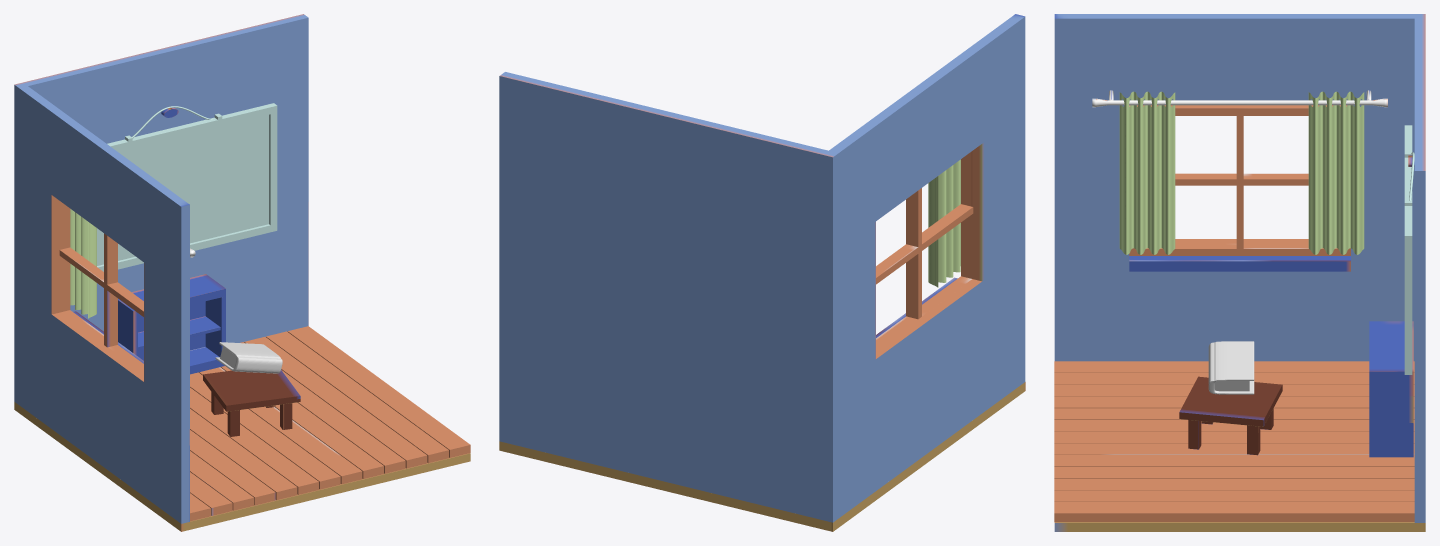
Rendered from room.glb.
3 renders of one model, left to right at view 1: azimuth 30°, elevation 25°; view 2: azimuth 150°, elevation 25°; view 3: azimuth 270°, elevation 25°, orthographic. The views are drawn at different scales.
Parts seen in each view (by area): view 1: room, dashboard, diary; view 2: room; view 3: room, diary, dashboard.
Boxes of the visible parts, x1,y1,x2,y2 form: room: (14,14,470,531); dashboard: (97,103,277,271); diary: (215,342,282,373); room: (499,14,1025,531); room: (1054,14,1425,531); diary: (1208,341,1254,394); dashboard: (1404,125,1414,374).
Size of the model in its own units: 2.2 by 2.36 by 2.2.
3 materials, 1 textured.
